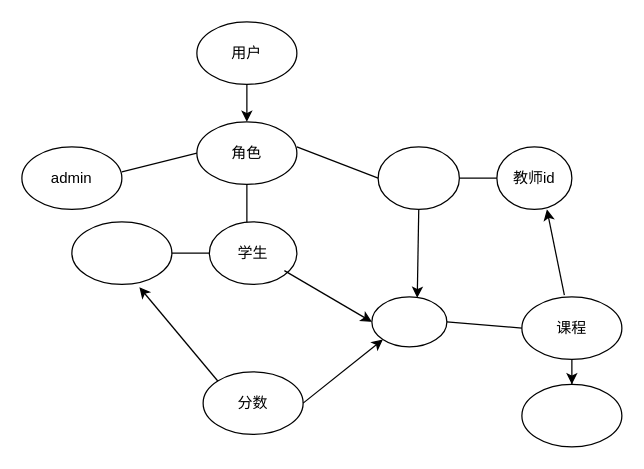
The diagram is 644 pixels wide and 469 high, and some of its shapes have lost their labels. Here are the shapes that lost their labels. From the top down, the centre of each, then its label:
At point (418, 177): "教师".
At point (121, 252): "学生id".
At point (409, 321): "课程id".
At point (571, 415): "专业".
